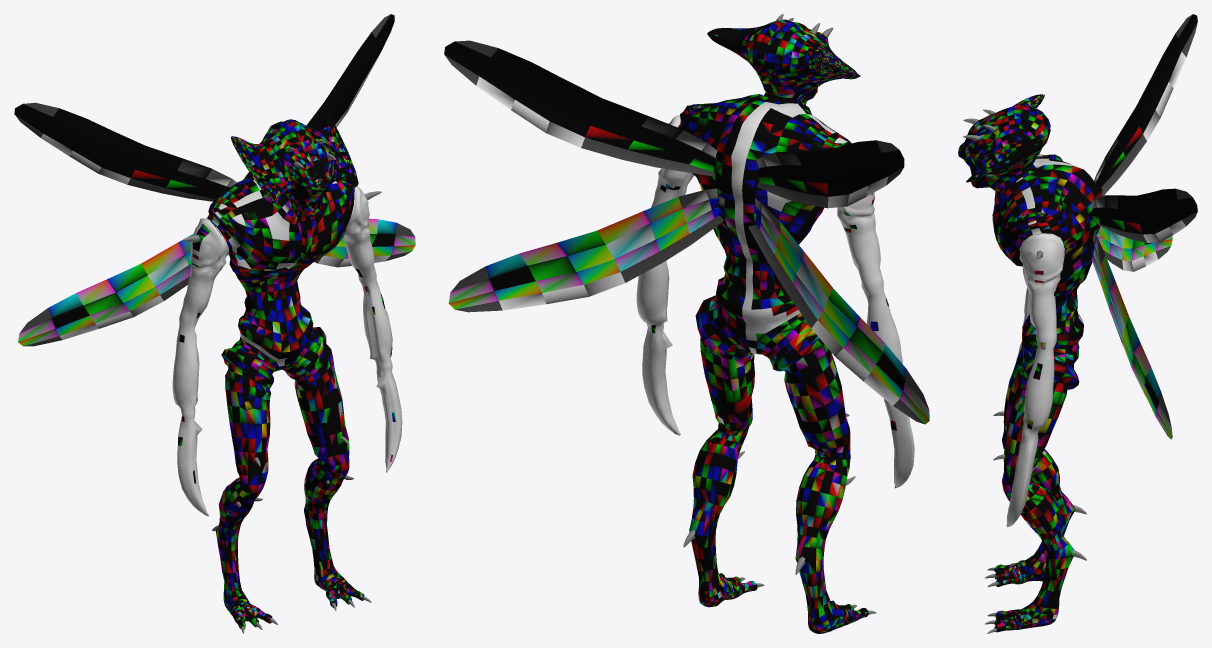
Rendered from SM_Grunt_rig.FBX.
3 renders of one model, left to right at view 1: azimuth 30°, elevation 25°; view 2: azimuth 150°, elevation 25°; view 3: azimuth 270°, elevation 25°, orthographic. The views are drawn at different scales.
Visible parts, largest first — view 1: grunt_low, Upperwing_low, Lowerwing_low; view 2: grunt_low, Lowerwing_low, Upperwing_low; view 3: grunt_low, Upperwing_low, Lowerwing_low, Upknee_low.
Boxes of the visible parts, <box> form: grunt_low: <box>172,113,402,629</box>; Upperwing_low: <box>14,14,394,201</box>; Lowerwing_low: <box>18,218,415,346</box>; grunt_low: <box>636,19,914,633</box>; Lowerwing_low: <box>448,188,929,424</box>; Upperwing_low: <box>444,40,904,208</box>; grunt_low: <box>958,94,1102,632</box>; Upperwing_low: <box>1092,14,1197,242</box>; Lowerwing_low: <box>1091,226,1172,439</box>; Upknee_low: <box>963,109,1086,560</box>.
Size of the model in its own units: 1.78 by 2.09 by 0.9093.
